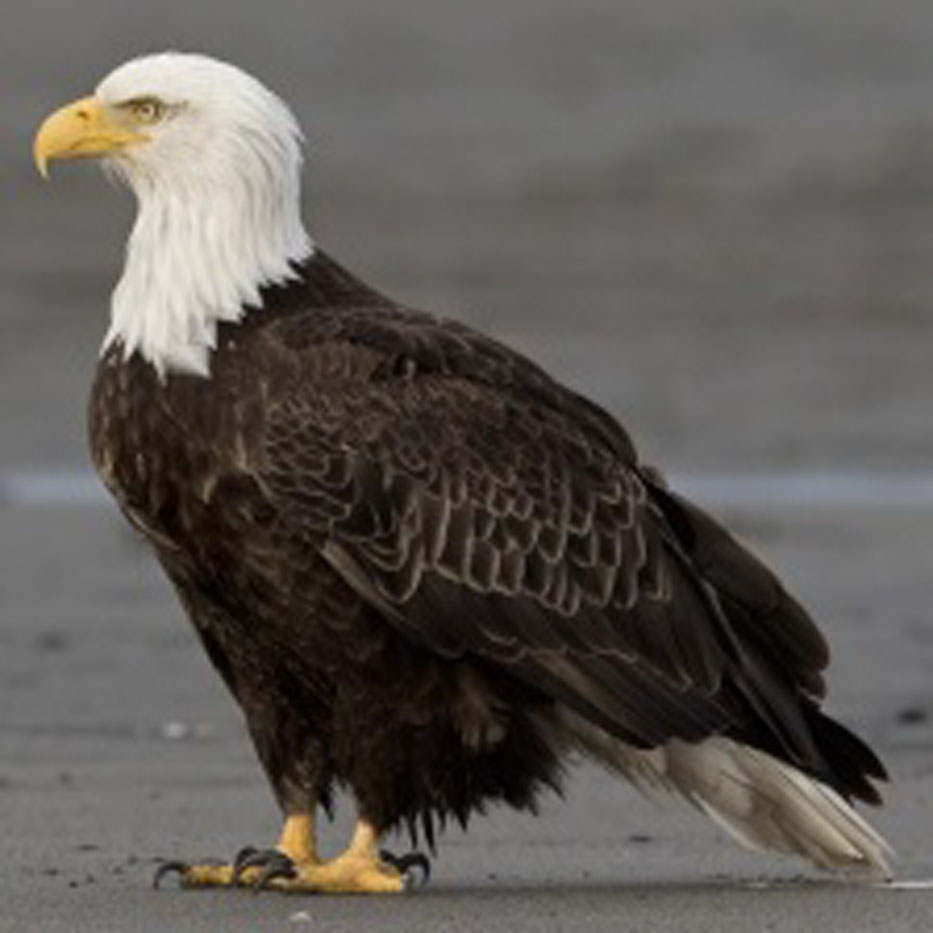Pengoyak Daging: (15, 83, 111, 184)
